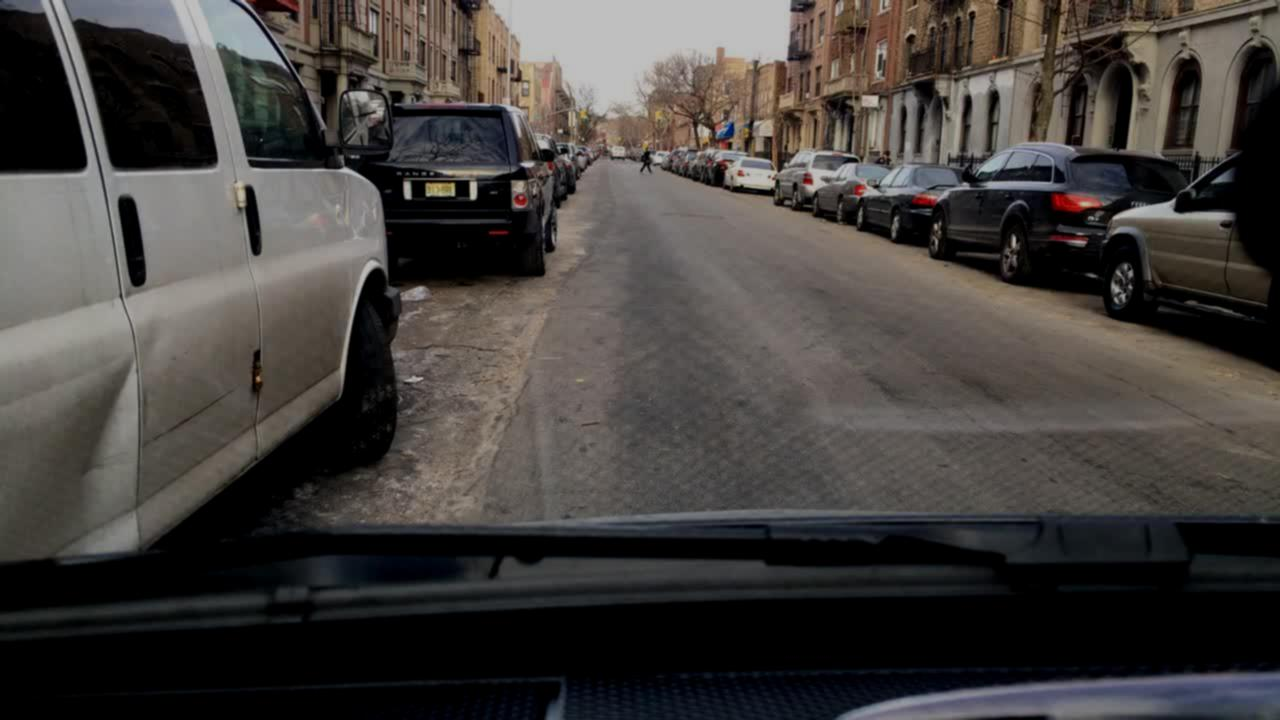Audi: (1126, 196, 1152, 214)
range rover: (395, 167, 482, 179)
